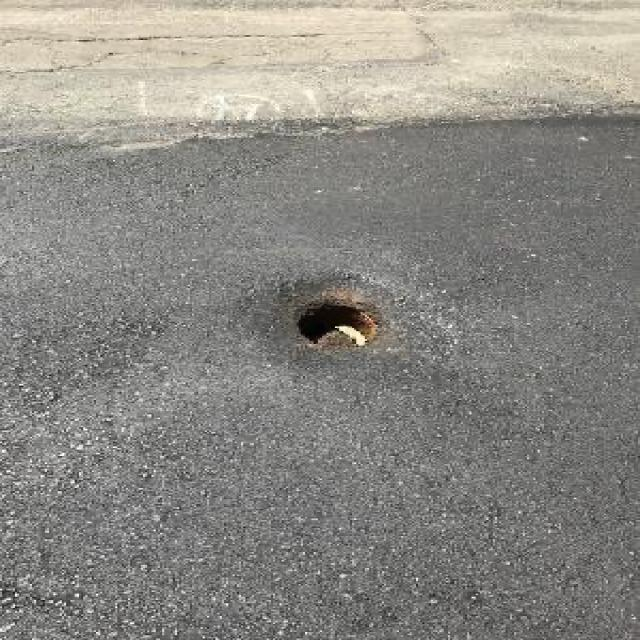objects: (267, 270, 431, 350)
